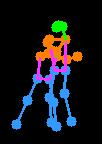normal: (9, 14, 83, 136)
